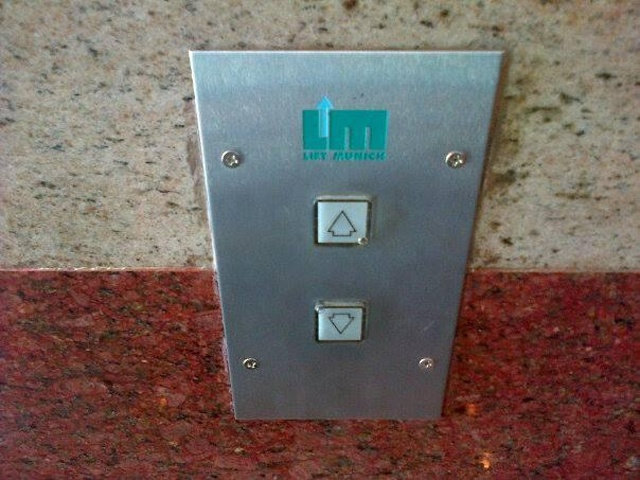down: (312, 299, 366, 345)
up: (312, 193, 371, 248)
